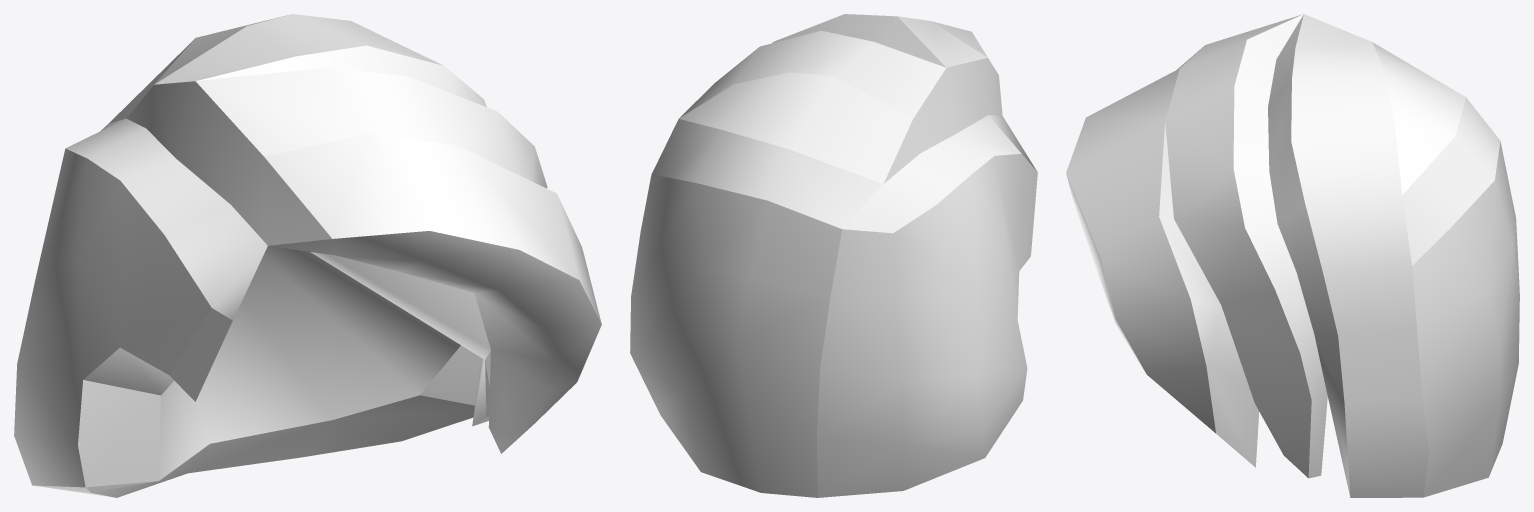
File: Female_Hairs_06_v2.fbx
3 views of the same model, side by side, from view 1: azimuth 30°, elevation 25°; view 2: azimuth 150°, elevation 25°; view 3: azimuth 270°, elevation 25° (orthographic). The views are drawn at different scales.
Parts seen in each view (by area): view 1: Female_Hairs_06_v2; view 2: Female_Hairs_06_v2; view 3: Female_Hairs_06_v2.
Boxes of the visible parts, x1,y1,x2,y2 form: Female_Hairs_06_v2: (14, 14, 601, 497); Female_Hairs_06_v2: (630, 14, 1037, 497); Female_Hairs_06_v2: (1066, 14, 1519, 497).
Size of the model in its own units: 65.75 by 68.56 by 69.7.
